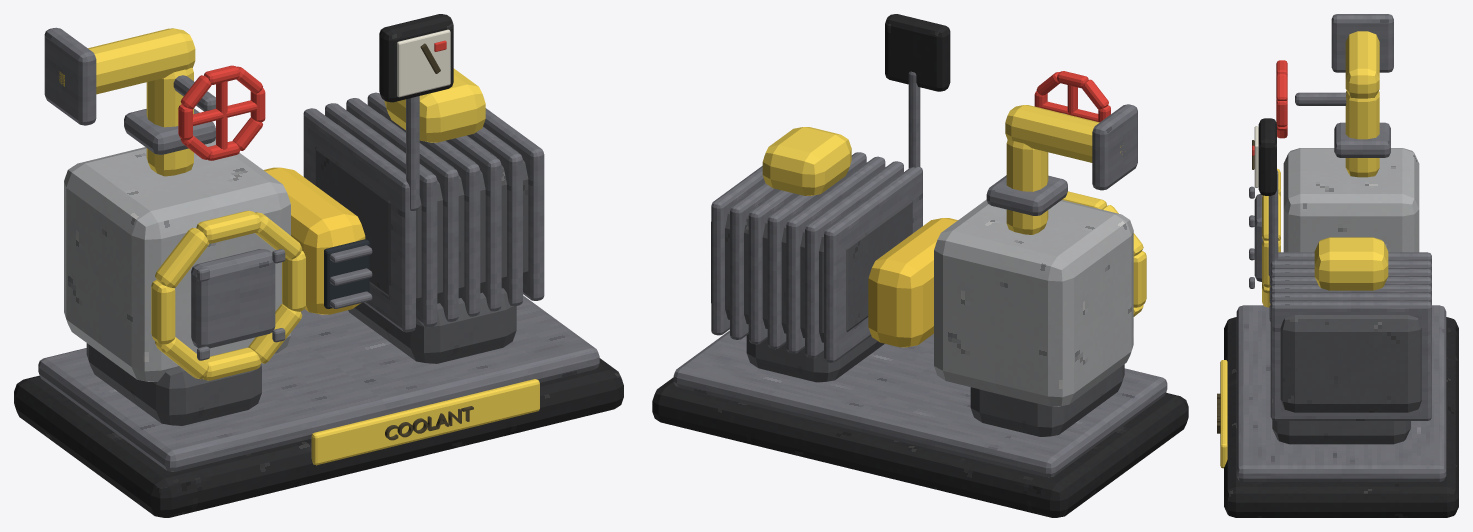
Rendered from decor_eng_pump_assembly.glb.
3 renders of one model, left to right at view 1: azimuth 30°, elevation 25°; view 2: azimuth 150°, elevation 25°; view 3: azimuth 270°, elevation 25°, orthographic. The views are drawn at different scales.
Parts seen in each view (by area): view 1: DEC_EngPumpAssembly__Drain_Pan, DEC_EngPumpAssembly__Impeller_Case, DEC_EngPumpAssembly__Skid, DEC_EngPumpAssembly__Motor_Block, DEC_EngPumpAssembly__Motor_Cooling_Fin_0, DEC_EngPumpAssembly__Impeller_Cover_Boss, DEC_EngPumpAssembly__Front_Nameplate, DEC_EngPumpAssembly__Machine_Foot_-0.46, DEC_EngPumpAssembly__Machine_Foot_0.35, DEC_EngPumpAssembly__Coupling_Guard, DEC_EngPumpAssembly__Outlet_Elbow, DEC_EngPumpAssembly__Motor_Cooling_Fin_1 (+24 smaller); view 2: DEC_EngPumpAssembly__Impeller_Case, DEC_EngPumpAssembly__Drain_Pan, DEC_EngPumpAssembly__Skid, DEC_EngPumpAssembly__Motor_Block, DEC_EngPumpAssembly__Coupling_Guard, DEC_EngPumpAssembly__Motor_Cooling_Fin_0, DEC_EngPumpAssembly__Motor_Terminal_Box, DEC_EngPumpAssembly__Machine_Foot_-0.46, DEC_EngPumpAssembly__Pressure_Gauge_Body, DEC_EngPumpAssembly__Motor_Cooling_Fin_2, DEC_EngPumpAssembly__Outlet_Elbow, DEC_EngPumpAssembly__Motor_Cooling_Fin_1 (+10 smaller); view 3: DEC_EngPumpAssembly__Drain_Pan, DEC_EngPumpAssembly__Motor_Block, DEC_EngPumpAssembly__Skid, DEC_EngPumpAssembly__Impeller_Case, DEC_EngPumpAssembly__Motor_Cooling_Fin_6, DEC_EngPumpAssembly__Motor_Terminal_Box, DEC_EngPumpAssembly__Machine_Foot_0.35, DEC_EngPumpAssembly__Outlet_Flange, DEC_EngPumpAssembly__Outlet_Elbow, DEC_EngPumpAssembly__Discharge_Riser, DEC_EngPumpAssembly__Discharge_Union, DEC_EngPumpAssembly__Motor_Cooling_Fin_5 (+15 smaller).
Boxes of the visible parts, <box> form: DEC_EngPumpAssembly__Drain_Pan: <box>38,295,599,471</box>; DEC_EngPumpAssembly__Impeller_Case: <box>64,138,290,381</box>; DEC_EngPumpAssembly__Skid: <box>14,358,623,517</box>; DEC_EngPumpAssembly__Motor_Block: <box>315,114,528,309</box>; DEC_EngPumpAssembly__Motor_Cooling_Fin_0: <box>303,108,415,332</box>; DEC_EngPumpAssembly__Impeller_Cover_Boss: <box>191,249,275,348</box>; DEC_EngPumpAssembly__Front_Nameplate: <box>311,379,539,465</box>; DEC_EngPumpAssembly__Machine_Foot_-0.46: <box>86,343,261,425</box>; DEC_EngPumpAssembly__Machine_Foot_0.35: <box>348,288,516,363</box>; DEC_EngPumpAssembly__Coupling_Guard: <box>263,167,365,314</box>; DEC_EngPumpAssembly__Outlet_Elbow: <box>59,28,195,94</box>; DEC_EngPumpAssembly__Motor_Cooling_Fin_1: <box>325,103,437,327</box>; DEC_EngPumpAssembly__Impeller_Case: <box>934,199,1133,406</box>; DEC_EngPumpAssembly__Drain_Pan: <box>673,330,1167,477</box>; DEC_EngPumpAssembly__Skid: <box>652,377,1188,517</box>; DEC_EngPumpAssembly__Motor_Block: <box>711,171,912,342</box>; DEC_EngPumpAssembly__Coupling_Guard: <box>868,218,957,347</box>; DEC_EngPumpAssembly__Motor_Cooling_Fin_0: <box>824,167,922,362</box>; DEC_EngPumpAssembly__Motor_Terminal_Box: <box>762,127,851,195</box>; DEC_EngPumpAssembly__Machine_Foot_-0.46: <box>970,364,1124,436</box>; DEC_EngPumpAssembly__Pressure_Gauge_Body: <box>885,14,950,91</box>; DEC_EngPumpAssembly__Motor_Cooling_Fin_2: <box>786,156,885,353</box>; DEC_EngPumpAssembly__Outlet_Elbow: <box>1005,105,1122,162</box>; DEC_EngPumpAssembly__Motor_Cooling_Fin_1: <box>805,161,903,358</box>; DEC_EngPumpAssembly__Drain_Pan: <box>1236,305,1446,481</box>; DEC_EngPumpAssembly__Motor_Block: <box>1280,315,1421,412</box>; DEC_EngPumpAssembly__Skid: <box>1224,317,1458,517</box>; DEC_EngPumpAssembly__Impeller_Case: <box>1283,148,1419,252</box>; DEC_EngPumpAssembly__Motor_Cooling_Fin_6: <box>1270,301,1431,420</box>; DEC_EngPumpAssembly__Motor_Terminal_Box: <box>1314,237,1388,290</box>; DEC_EngPumpAssembly__Machine_Foot_0.35: <box>1272,420,1410,444</box>; DEC_EngPumpAssembly__Outlet_Flange: <box>1331,14,1393,72</box>; DEC_EngPumpAssembly__Outlet_Elbow: <box>1345,31,1379,98</box>; DEC_EngPumpAssembly__Discharge_Riser: <box>1345,91,1379,177</box>; DEC_EngPumpAssembly__Discharge_Union: <box>1334,122,1390,157</box>; DEC_EngPumpAssembly__Motor_Cooling_Fin_5: <box>1270,293,1431,304</box>.
Size of the model in its own units: 1.53 by 1.28 by 0.855.
Materials: 10 (4 with a texture image).
